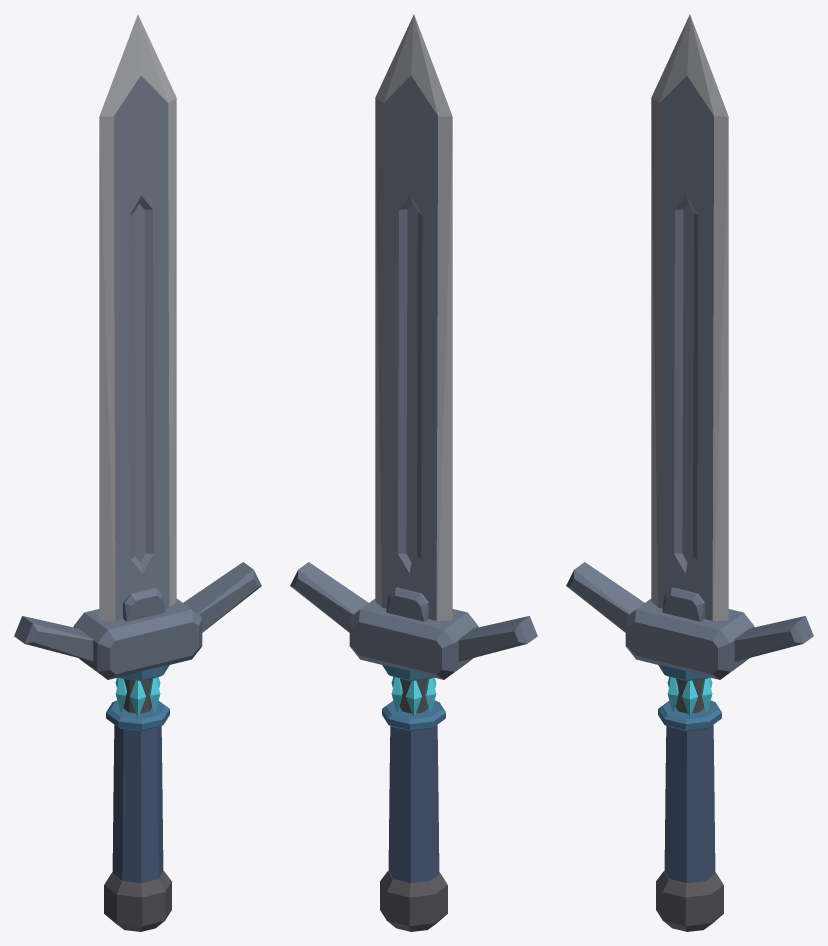
File: Sword.glb
3 renders of one model, left to right at view 1: azimuth 30°, elevation 25°; view 2: azimuth 150°, elevation 25°; view 3: azimuth 330°, elevation 25°, orthographic.
Visible parts, largest first — view 1: sword-metal, sword-matte, sword-crystal; view 2: sword-metal, sword-matte, sword-crystal; view 3: sword-metal, sword-matte, sword-crystal.
Part boxes in pixels (x1=…): sword-metal: x1=14, y1=14, x2=261, y2=931; sword-matte: x1=112, y1=725, x2=163, y2=882; sword-crystal: x1=115, y1=677, x2=160, y2=715; sword-metal: x1=290, y1=14, x2=537, y2=931; sword-matte: x1=388, y1=725, x2=439, y2=882; sword-crystal: x1=391, y1=677, x2=436, y2=715; sword-metal: x1=566, y1=14, x2=813, y2=931; sword-matte: x1=664, y1=725, x2=715, y2=882; sword-crystal: x1=667, y1=677, x2=712, y2=715.
Size of the model in its own units: 0.2081 by 0.761 by 0.05.
